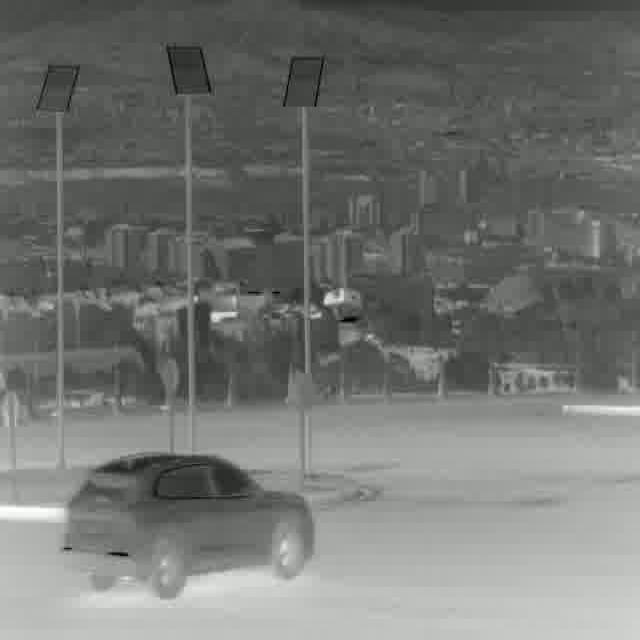Car: (65, 451, 315, 601)
